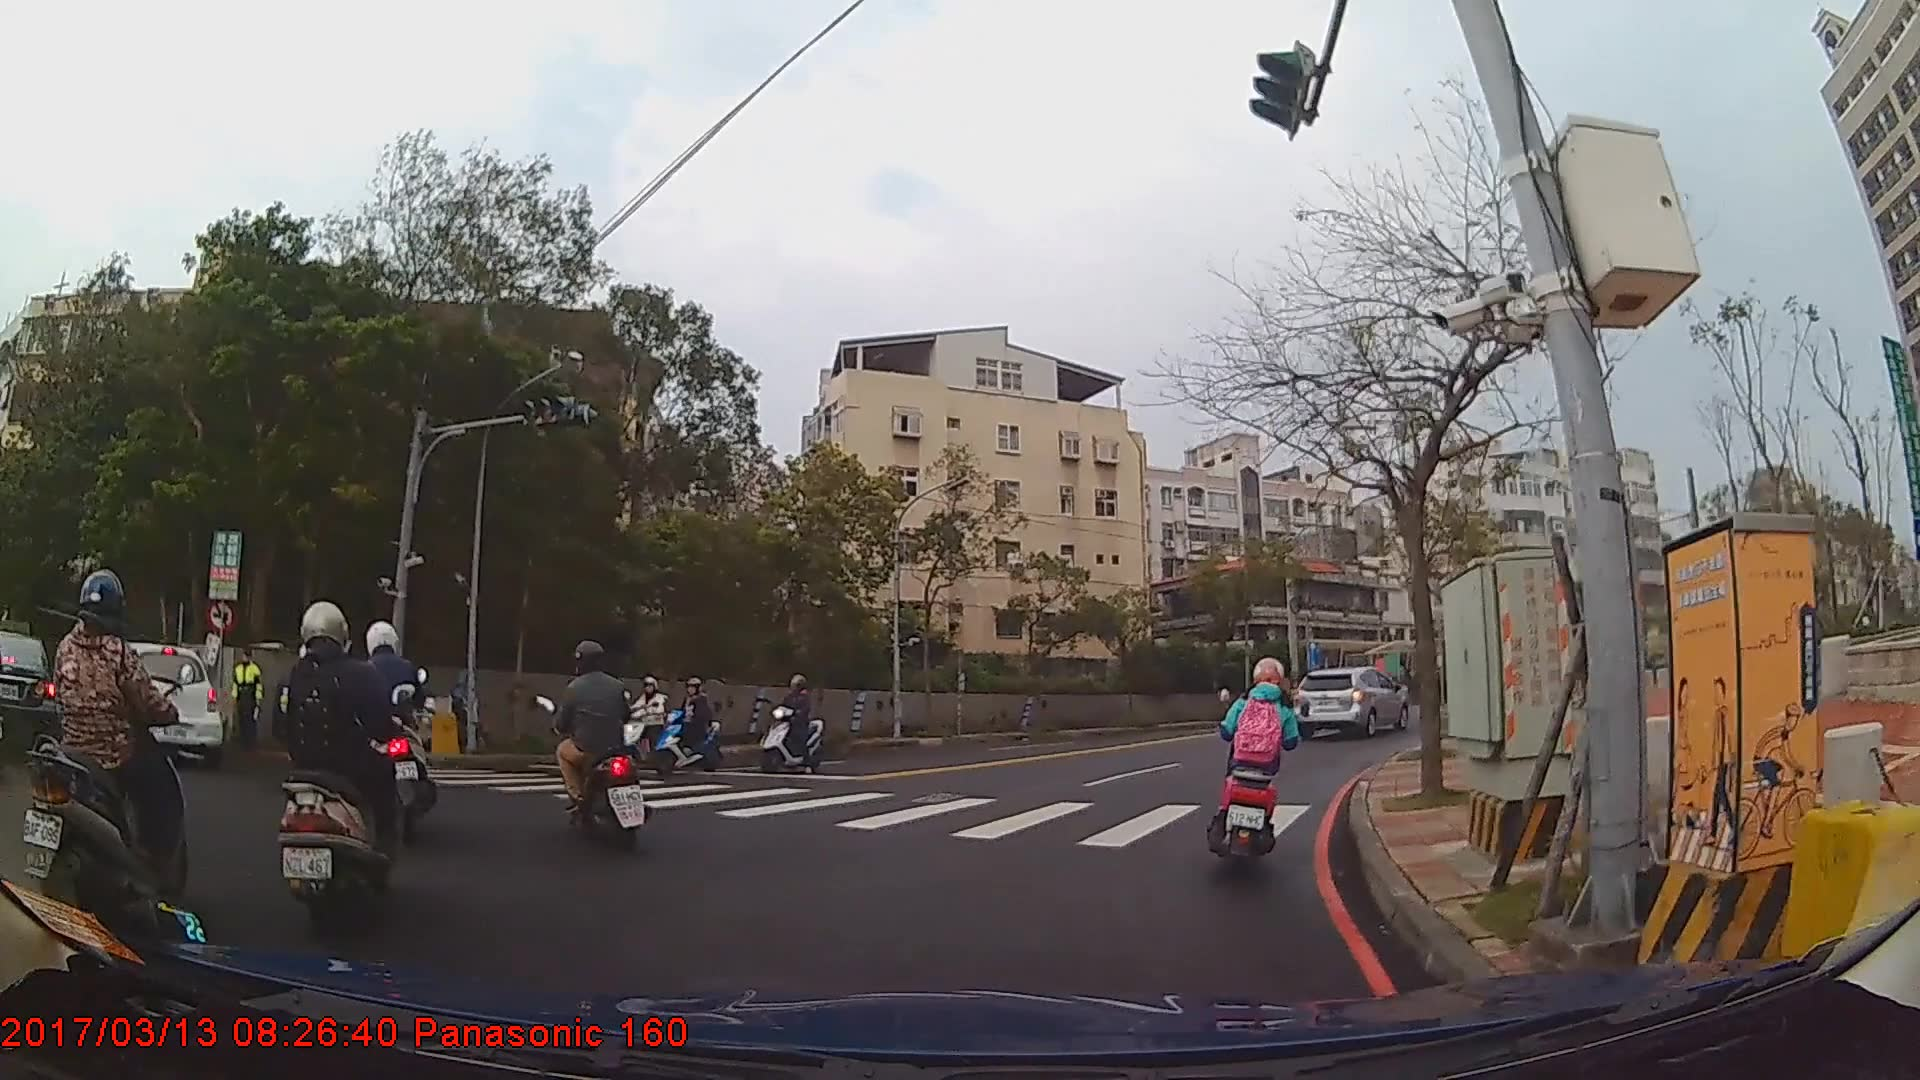pedestrian: (229, 646, 267, 755)
rider: (47, 570, 195, 946), (273, 600, 404, 920), (543, 640, 650, 855), (351, 622, 439, 846), (1216, 657, 1306, 862), (655, 677, 722, 774), (758, 674, 824, 772), (616, 675, 675, 765)
vehicle: (91, 643, 221, 765), (1290, 665, 1410, 741), (0, 629, 61, 753)
